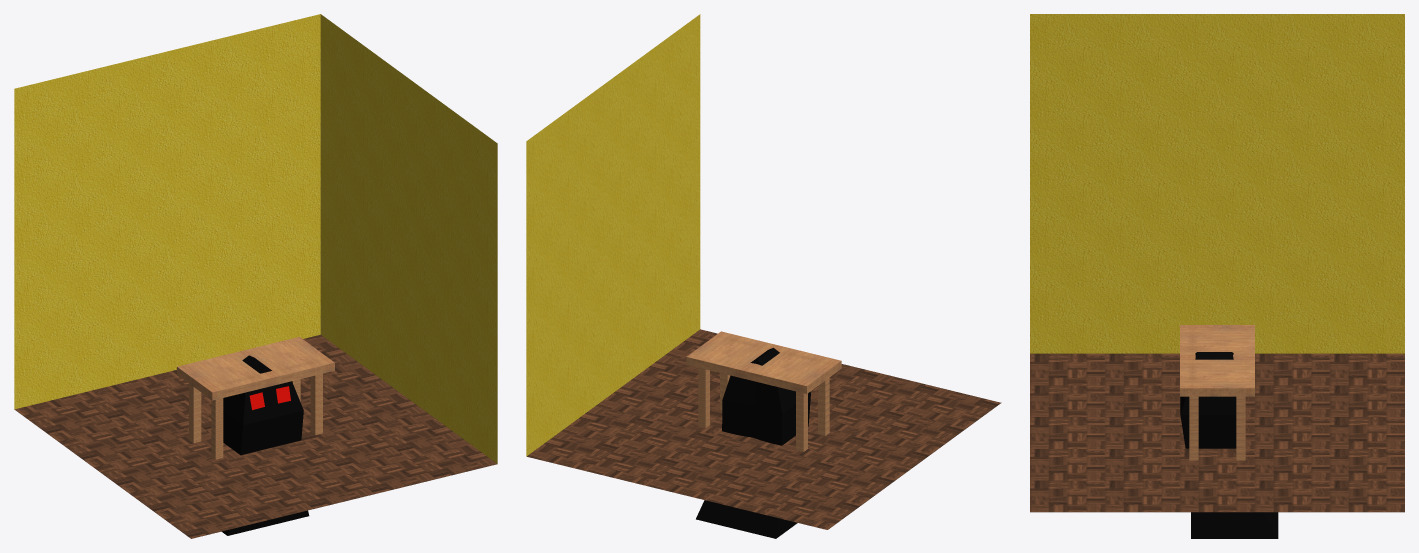
File: models.glb
The picture shows the model from 3 angles, left to right: view 1: azimuth 30°, elevation 25°; view 2: azimuth 150°, elevation 25°; view 3: azimuth 270°, elevation 25°; orthographic projection. The views are drawn at different scales.
Visible parts, largest first — view 1: wall_one, wall_two, wall_none, Desk, Ghost; view 2: wall_two, wall_none, Desk, Ghost; view 3: wall_two, wall_none, Desk, Ghost.
Boxes of the visible parts, box(x1,y1,x2,y2) form: wall_one: box(14, 14, 320, 409); wall_two: box(320, 14, 497, 463); wall_none: box(14, 334, 497, 538); Desk: box(177, 337, 334, 459); Ghost: box(222, 355, 309, 535); wall_two: box(526, 14, 700, 456); wall_none: box(527, 329, 1001, 529); Desk: box(686, 331, 841, 451); Ghost: box(696, 347, 810, 538); wall_two: box(1030, 14, 1404, 353); wall_none: box(1030, 353, 1404, 512); Desk: box(1180, 325, 1254, 460); Ghost: box(1180, 352, 1278, 538).
Bounding box in the file's own units: 10 × 12.5 × 10.
Materials: 6 (4 with a texture image).
